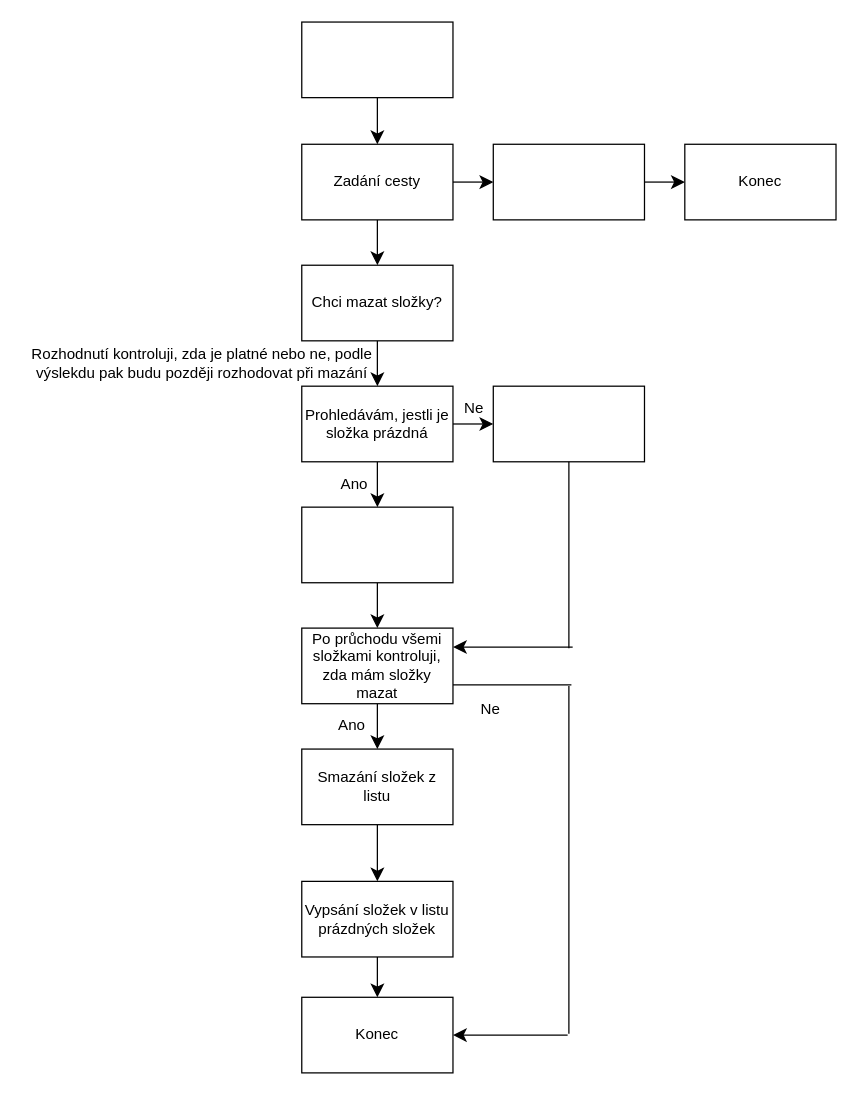
This 858x1095 diagram has some shape labels left out. The box of each missing label's shape, as (x1, y1, x2, y2) in pixels:
Pokud cesta neexistuje, bude chyba o neplatné cestě: (492, 143, 644, 220)
Přeskakuji složku: (492, 385, 644, 462)
Přidávám do listu prázdných složek: (301, 506, 453, 583)
Spuštění: (301, 21, 453, 98)
